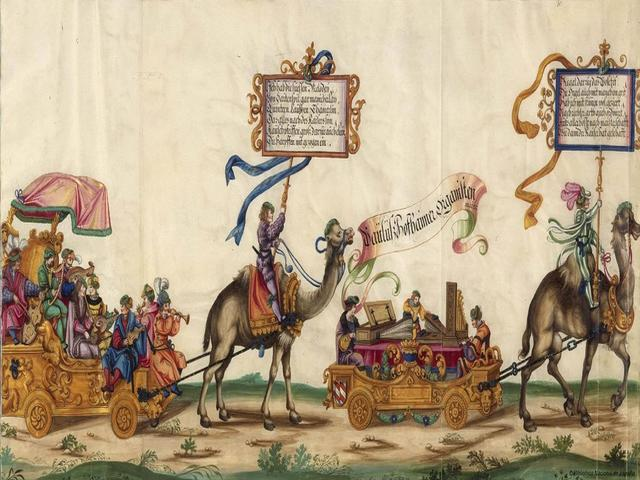camel: (198, 217, 366, 394)
